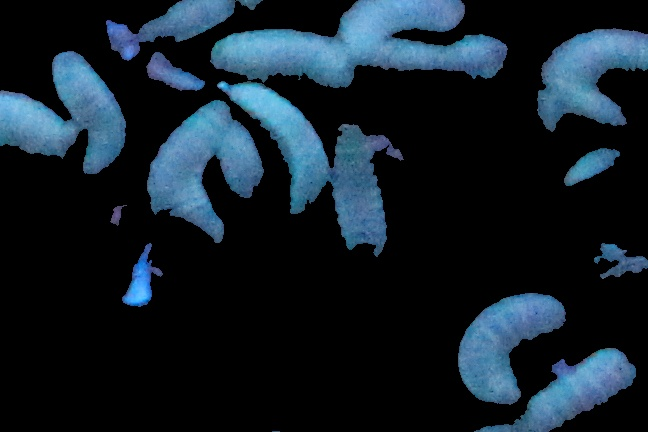larvae: (221, 80, 330, 214), (147, 99, 234, 246), (456, 292, 561, 401), (541, 26, 648, 125), (52, 51, 126, 173), (333, 125, 399, 255), (212, 29, 354, 89), (525, 349, 632, 428), (362, 32, 508, 76), (337, 1, 465, 48), (138, 1, 254, 43), (1, 92, 68, 159), (217, 120, 264, 205)
